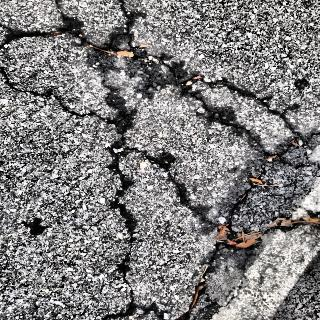alligator-crack: (1, 0, 320, 297)
